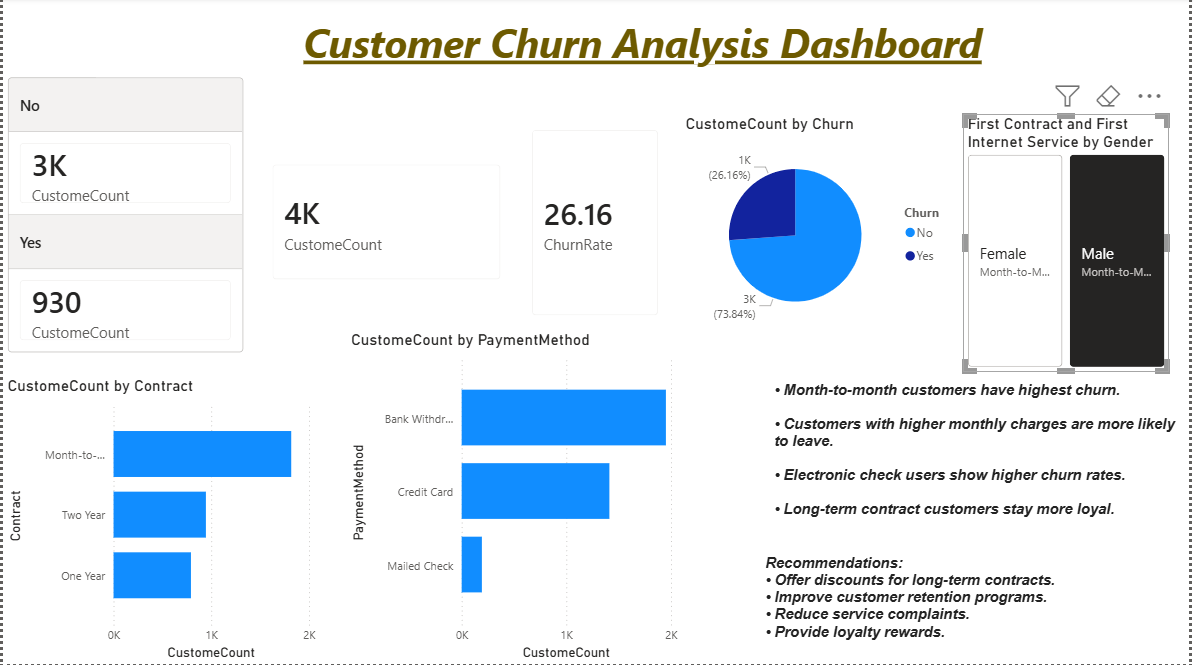

The dashboard page shown, as its layout file describes it:
{"tool":"powerbi","page":{"name":"Page 1","canvas":[1280,720],"ordinal":0},"visuals":[{"type":"cardVisual","fields":{"Data":["cleaned_churn_data.CustomeCount"]},"box":[0,0,280.1,344.9],"z":0},{"type":"cardVisual","fields":{"Data":["cleaned_churn_data.CustomeCount"],"Rows":["cleaned_churn_data.Churn"]},"box":[140.9,0,263.9,344.9],"z":1000},{"type":"cardVisual","fields":{"Data":["cleaned_churn_data.ChurnRate"]},"box":[325.5,0,170,233.2],"z":2000},{"type":"pieChart","fields":{"Category":["cleaned_churn_data.Churn"],"Y":["cleaned_churn_data.CustomeCount"]},"box":[500,14,304,346],"z":3000},{"type":"clusteredBarChart","fields":{"Category":["cleaned_churn_data.Contract"],"Y":["cleaned_churn_data.CustomeCount"]},"box":[0,354,342,366],"z":4000},{"type":"barChart","fields":{"Category":["cleaned_churn_data.PaymentMethod"],"Y":["cleaned_churn_data.CustomeCount"]},"box":[370,360,362,360],"z":5000},{"type":"advancedSlicerVisual","fields":{"Values":["cleaned_churn_data.Gender"],"Label":["Min(cleaned_churn_data.Contract)"]},"box":[828,14,222,278],"z":5001},{"type":"textbox","box":[828,308,452,184],"z":5002},{"type":"textbox","box":[818,492,462,124],"z":5003}]}

Visuals, with their boxes in screenshot pixels (x1, y1, x2, y2), scaled from the page's 1280x720 canvas onto the 1193x665 screenshot:
cardVisual - cleaned_churn_data.CustomeCount: region(0, 0, 261, 319)
cardVisual - cleaned_churn_data.CustomeCount x cleaned_churn_data.Churn: region(131, 0, 377, 319)
cardVisual - cleaned_churn_data.ChurnRate: region(303, 0, 462, 215)
pieChart - cleaned_churn_data.Churn x cleaned_churn_data.CustomeCount: region(466, 13, 749, 332)
clusteredBarChart - cleaned_churn_data.Contract x cleaned_churn_data.CustomeCount: region(0, 327, 319, 664)
barChart - cleaned_churn_data.PaymentMethod x cleaned_churn_data.CustomeCount: region(345, 332, 682, 664)
advancedSlicerVisual - cleaned_churn_data.Gender x Min(cleaned_churn_data.Contract): region(772, 13, 979, 270)
textbox: region(772, 284, 1192, 454)
textbox: region(762, 454, 1192, 569)
